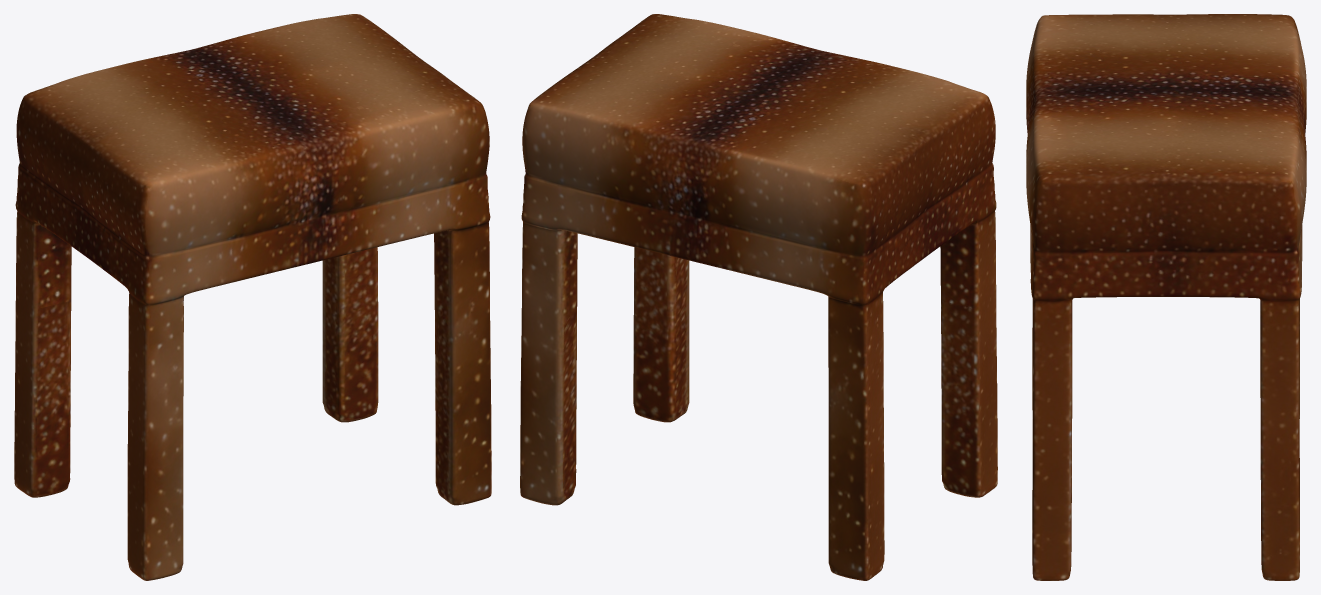
File: product-mid-century-modern-parsons-ottoman-antelope-06.glb
3 views of the same model, side by side, from view 1: azimuth 30°, elevation 25°; view 2: azimuth 150°, elevation 25°; view 3: azimuth 270°, elevation 25° (orthographic).
Parts seen in each view (by area): view 1: geometry_0; view 2: geometry_0; view 3: geometry_0.
Boxes of the visible parts, x1,y1,x2,y2 form: geometry_0: [14, 14, 491, 580]; geometry_0: [520, 14, 997, 580]; geometry_0: [1026, 14, 1306, 580].
Bounding box in the file's own units: 1.78 × 1.97 × 1.22.
Materials: 1 (1 with a texture image).
